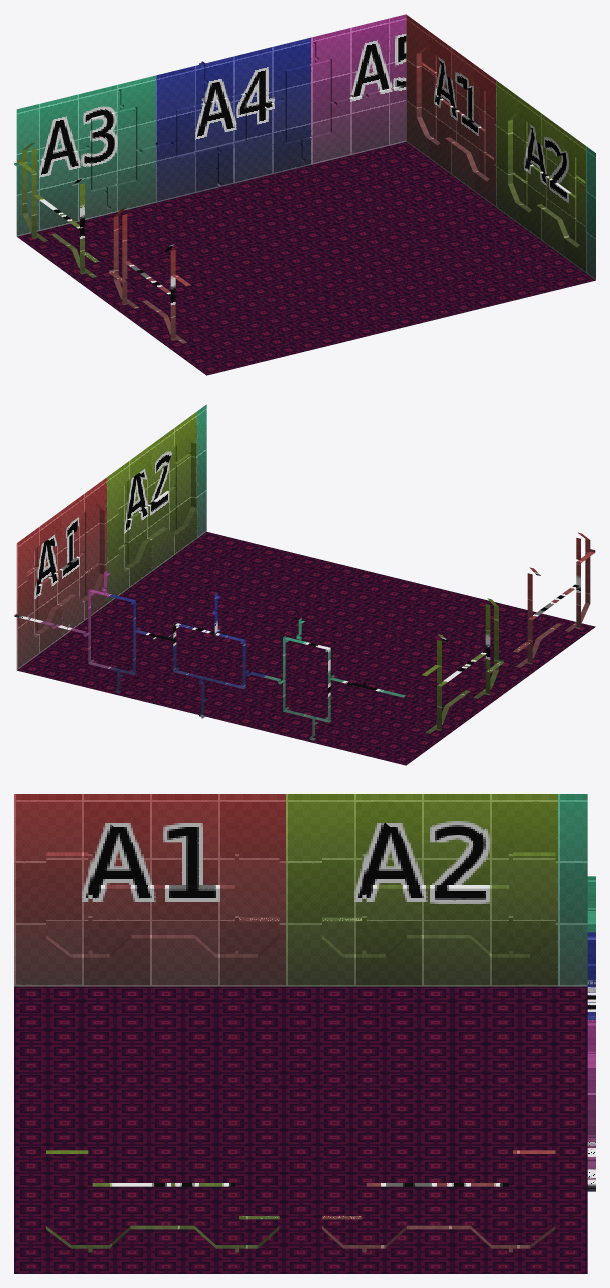
The model's file is Arena_magnetismo.glb.
3 views of the same model, one above another, from view 1: azimuth 30°, elevation 25°; view 2: azimuth 150°, elevation 25°; view 3: azimuth 270°, elevation 25° (orthographic). The views are drawn at different scales.
Parts seen in each view (by area): view 1: Arena; view 2: Arena; view 3: Arena.
Part boxes in pixels (bbox=[...]): Arena: bbox=[14, 14, 595, 375]; Arena: bbox=[14, 404, 595, 765]; Arena: bbox=[14, 794, 595, 1273].
Bounding box in the file's own units: 33.6 × 10 × 27.4.
Materials: 2 (2 with a texture image).
